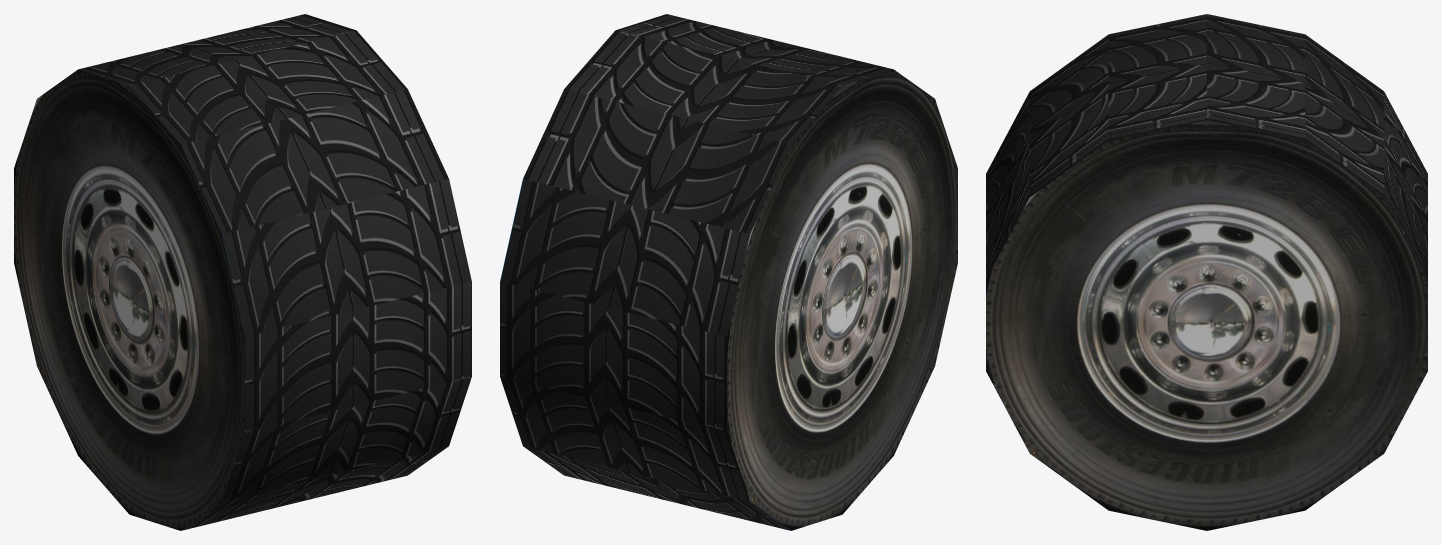
The model's file is wheel.fbx.
The picture shows the model from 3 angles, left to right: view 1: azimuth 30°, elevation 25°; view 2: azimuth 150°, elevation 25°; view 3: azimuth 270°, elevation 25°; orthographic projection. The views are drawn at different scales.
Parts seen in each view (by area): view 1: wheel; view 2: wheel; view 3: wheel.
Boxes of the visible parts, <box> form: wheel: <box>14,14,471,530</box>; wheel: <box>500,14,957,530</box>; wheel: <box>986,14,1427,530</box>.
Size of the model in its own units: 44.74 by 80.74 by 78.72.
Materials: 1 (1 with a texture image).
